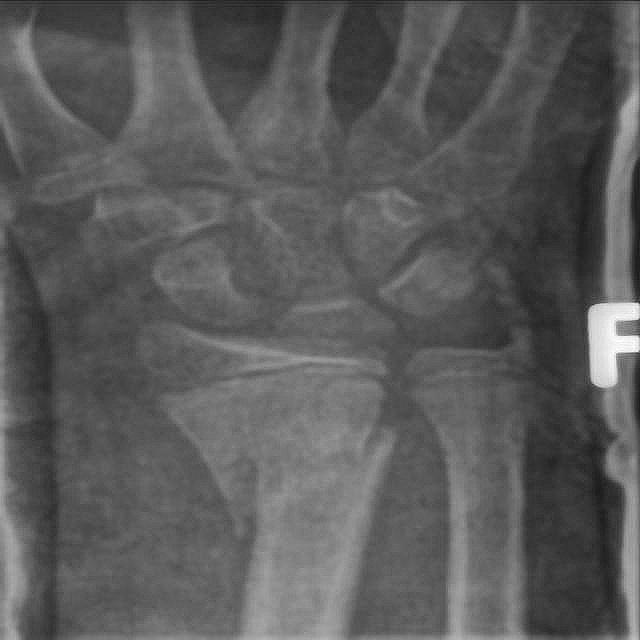bone: (228, 422, 402, 546), (469, 320, 548, 368)
